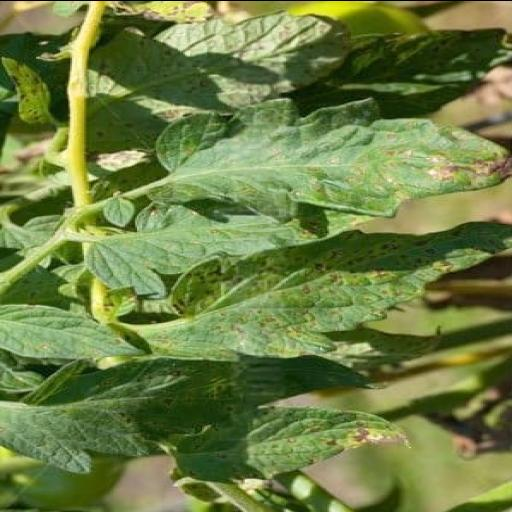Septoria: (130, 220, 512, 362), (143, 97, 512, 222), (0, 354, 376, 475), (82, 10, 354, 154), (82, 199, 318, 301), (158, 406, 416, 482), (0, 300, 146, 360)
